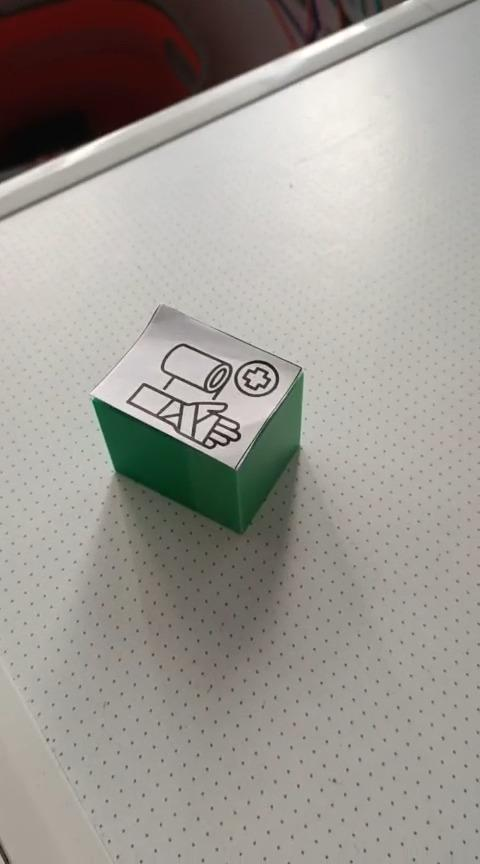Bandages: (89, 303, 305, 534)
